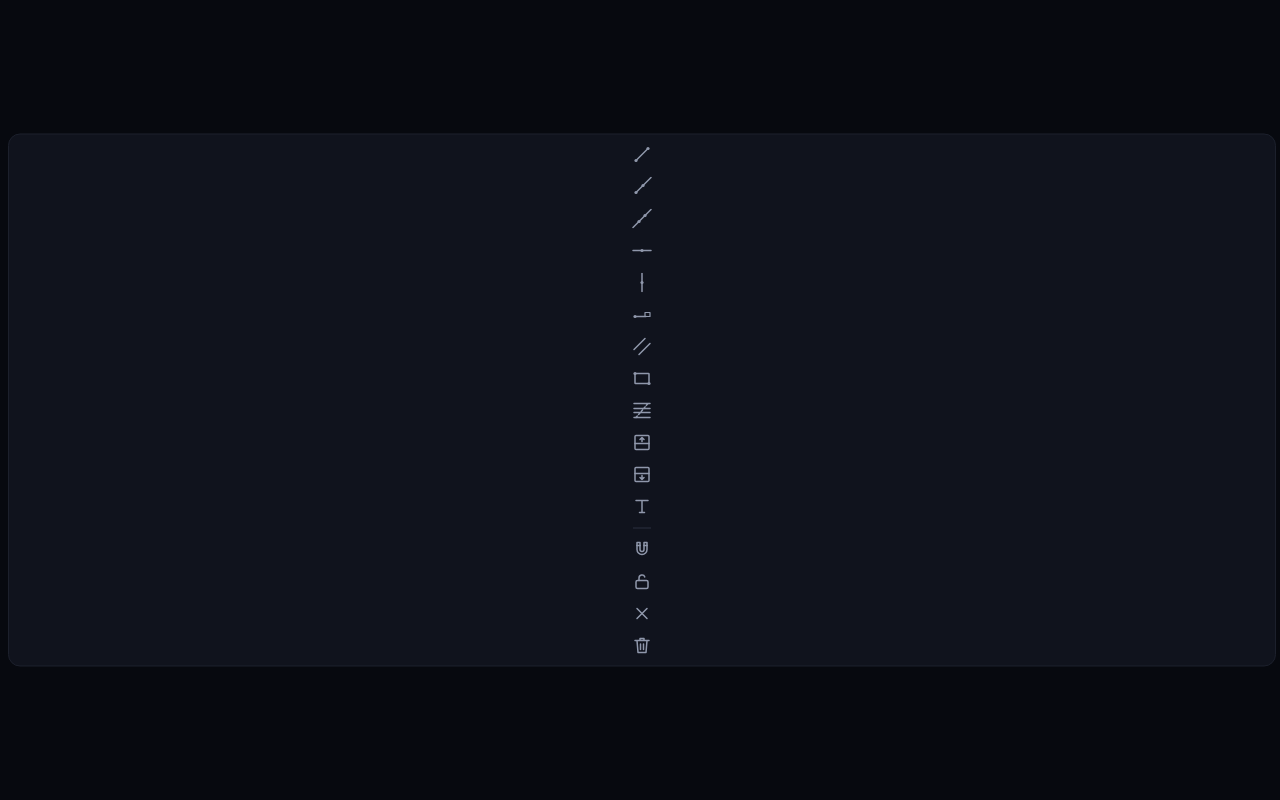
Test: DrawingToolbar › Escape cancels the active tool
Click the button named "Ray". click: [642, 186]
box: [627,172,657,202]
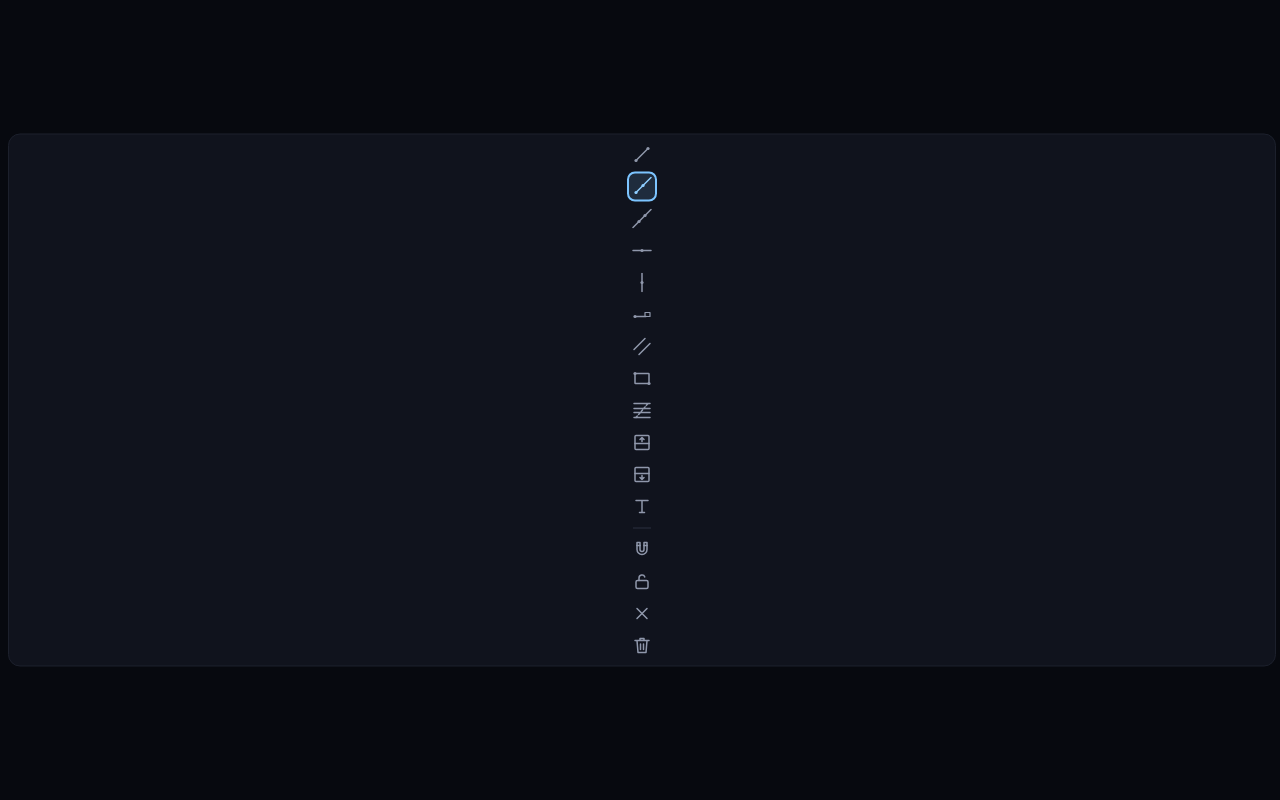
Press Escape
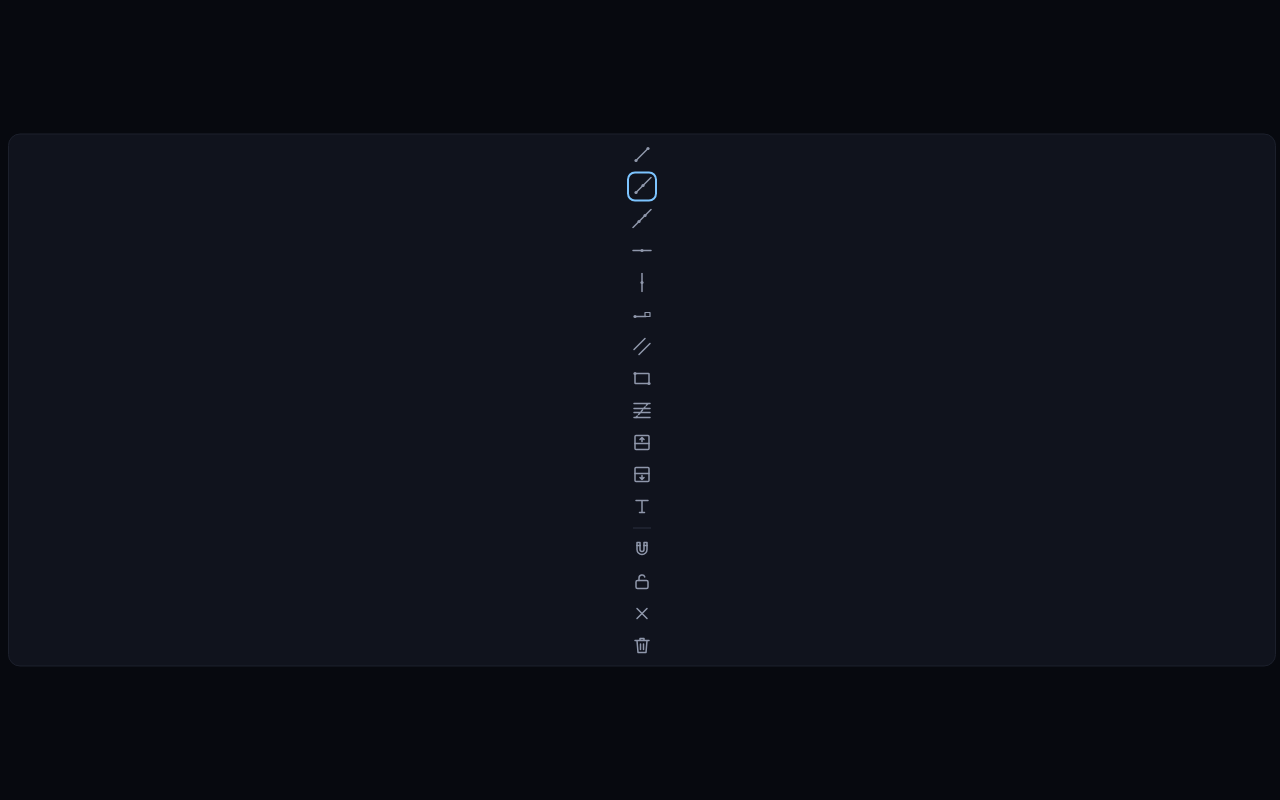
Check: the button named "Ray" is not pressed, box [627,172,657,202]
